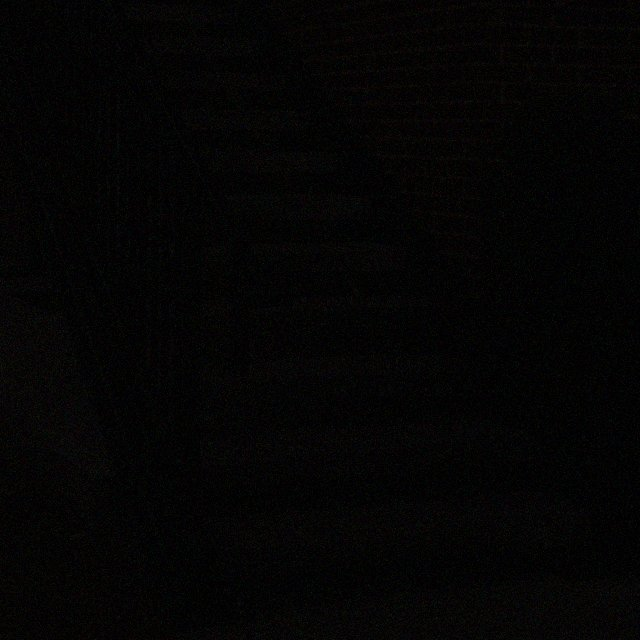stair: (0, 0, 617, 625), (206, 490, 590, 579), (201, 418, 535, 488), (202, 353, 487, 406), (250, 294, 443, 333), (253, 242, 405, 272), (159, 71, 285, 93), (139, 35, 260, 57), (120, 2, 238, 24)
